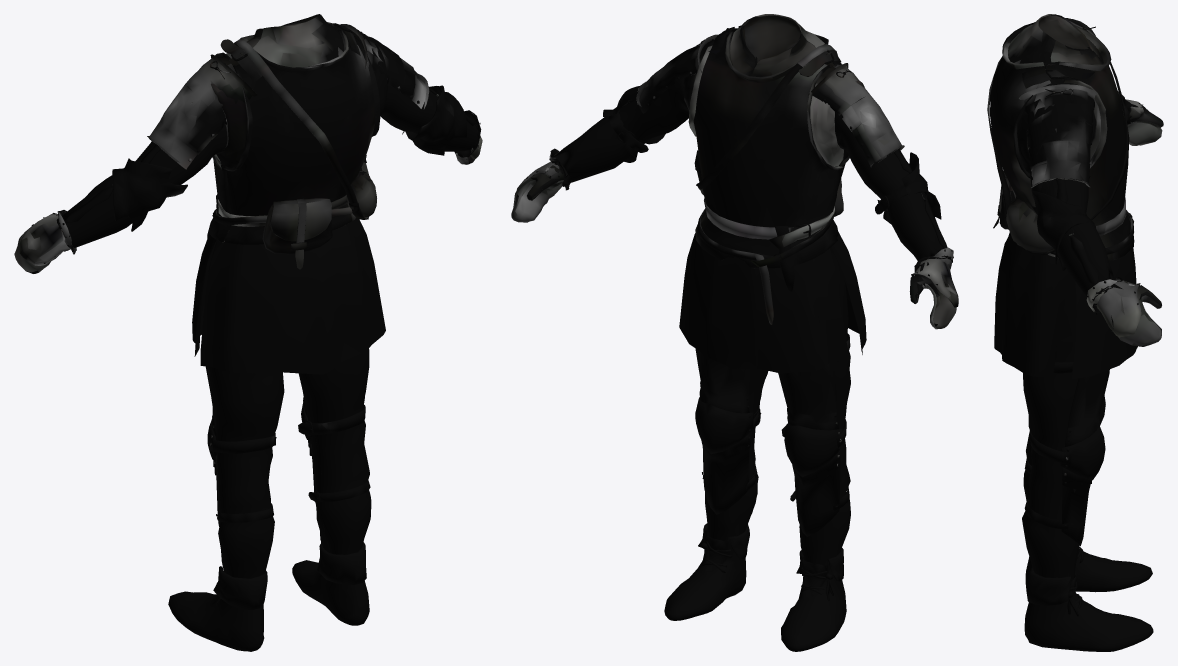
3 renders of one model, left to right at view 1: azimuth 30°, elevation 25°; view 2: azimuth 150°, elevation 25°; view 3: azimuth 270°, elevation 25°, orthographic. The views are drawn at different scales.
Parts seen in each view (by area): view 1: mesh_0; view 2: mesh_0; view 3: mesh_0.
Boxes of the visible parts, left/top/right/bottom form: mesh_0: left=14, top=14, right=482, bottom=651; mesh_0: left=511, top=14, right=958, bottom=651; mesh_0: left=987, top=14, right=1163, bottom=651.
Bounding box in the file's own units: 50.82 × 65.1 × 17.51.
Materials: 1 (1 with a texture image).
